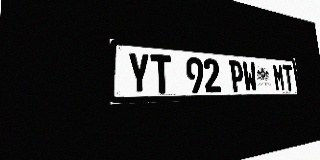2: (203, 58, 221, 93)
9: (185, 57, 205, 93)
M: (272, 64, 285, 91)
P: (229, 60, 245, 92)
T: (150, 54, 173, 94), (282, 64, 295, 91)
W: (242, 61, 257, 92)
Y: (127, 52, 151, 94)
